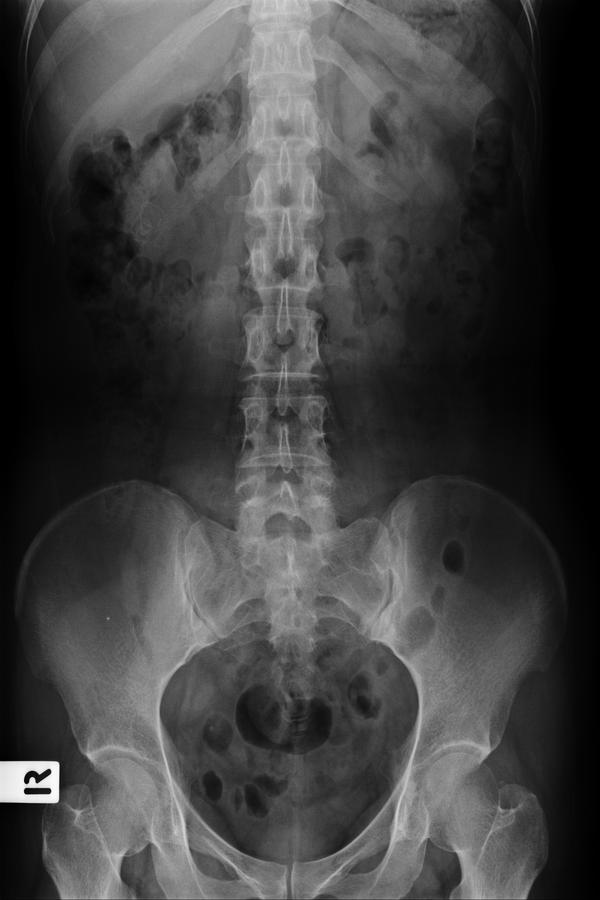not lumbar scoliosis: (235, 189, 339, 556)
